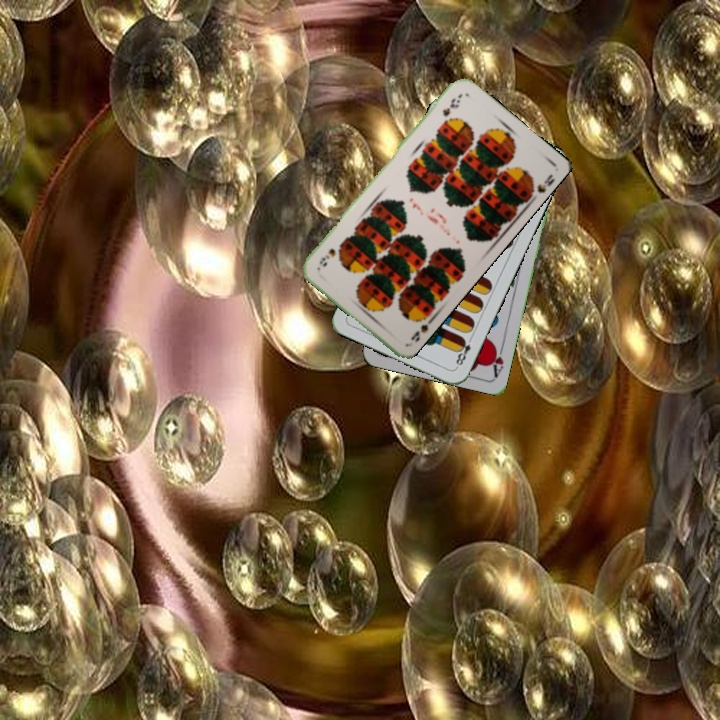E8: (452, 332, 475, 370)
HA: (487, 339, 507, 379)
S9: (406, 309, 437, 344), (438, 94, 463, 119)
